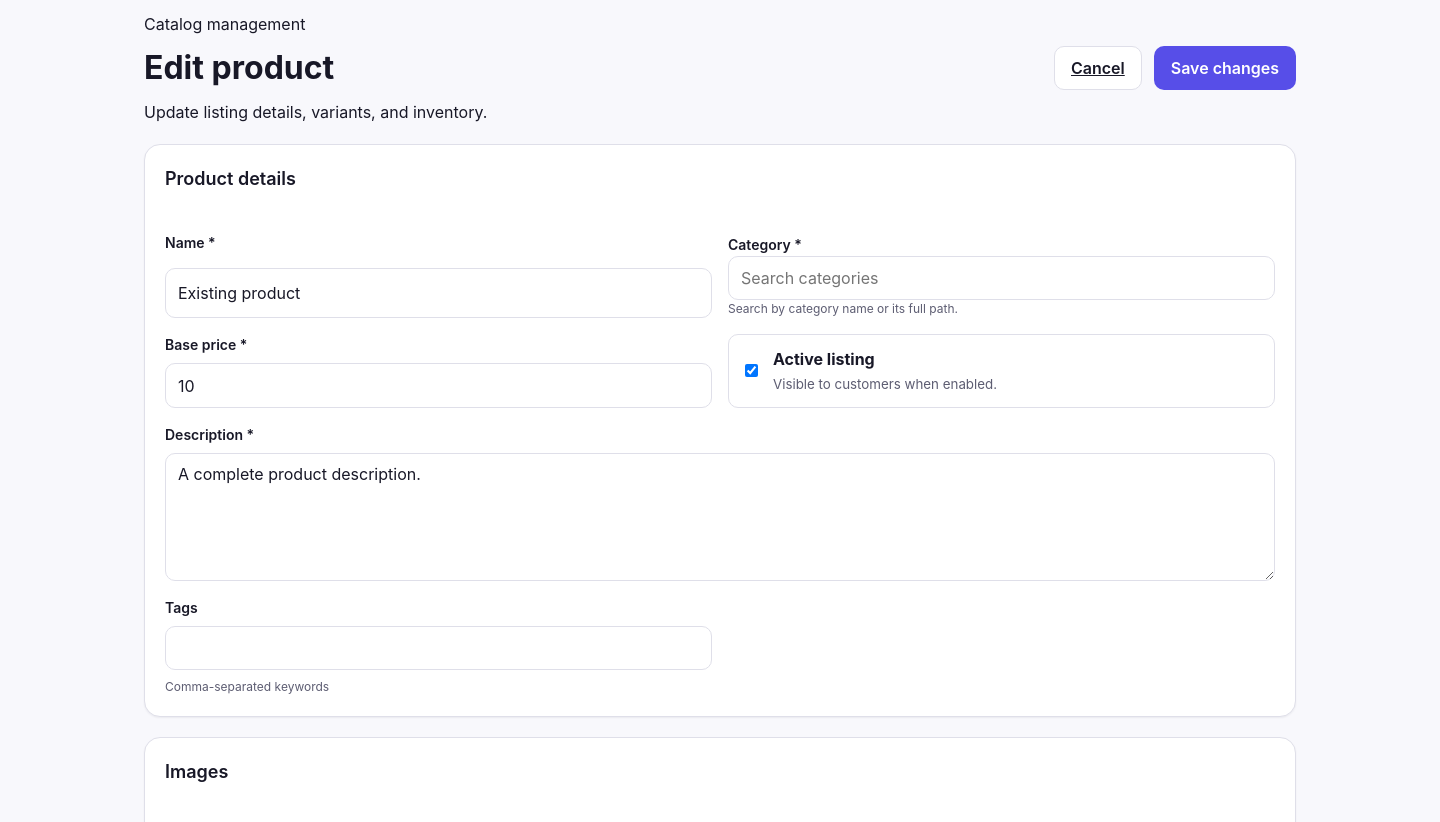
Test: product form navigation protection › clears and rejects a disabled category already assigned to an edit
expect the dropdown labelled "Category *" is empty: met, box 728,256 -> 1275,300
Click the button "Save changes". click: click(1225, 68)
box: 1154,46 -> 1296,90
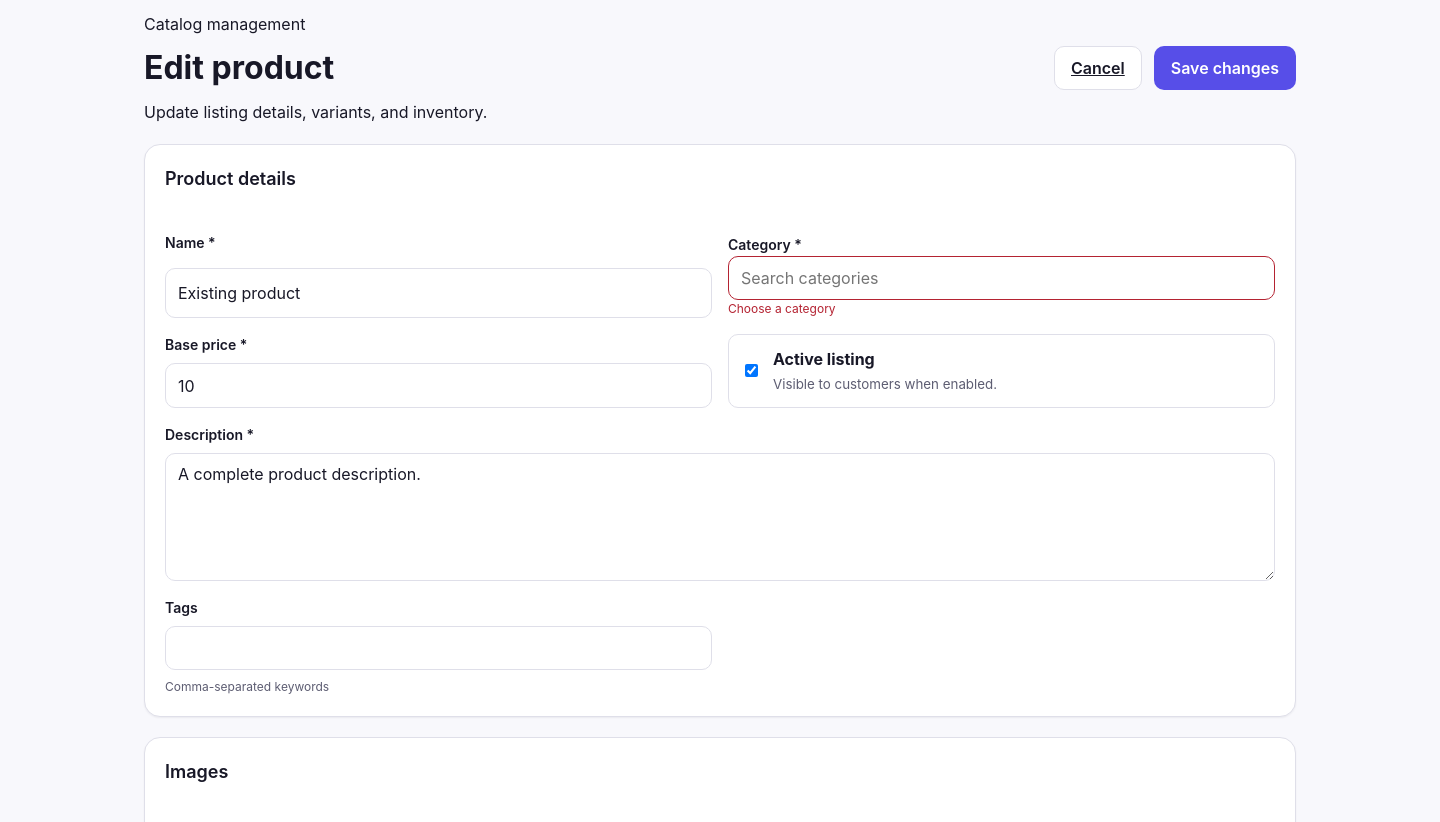
expect the text "Choose a category" is shown: met, box 728,301 -> 836,316
